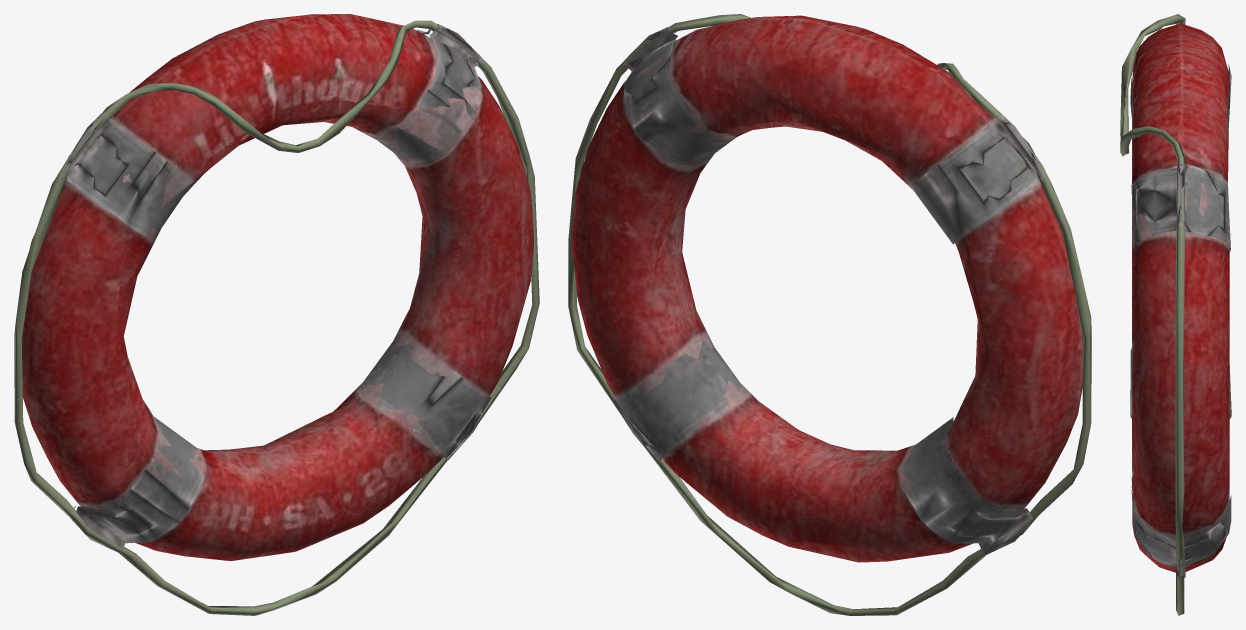
The model's file is rettungsring.glb.
The picture shows the model from 3 angles, left to right: view 1: azimuth 30°, elevation 25°; view 2: azimuth 150°, elevation 25°; view 3: azimuth 270°, elevation 25°; orthographic projection. The views are drawn at different scales.
Parts seen in each view (by area): view 1: lifebuoy; view 2: lifebuoy; view 3: lifebuoy.
Boxes of the visible parts, left/top/right/bottom form: lifebuoy: left=14, top=14, right=539, bottom=615; lifebuoy: left=568, top=14, right=1091, bottom=615; lifebuoy: left=1120, top=14, right=1231, bottom=615.
Bounding box in the file's own units: 0.7809 × 0.8396 × 0.1534.
Materials: 1 (1 with a texture image).
